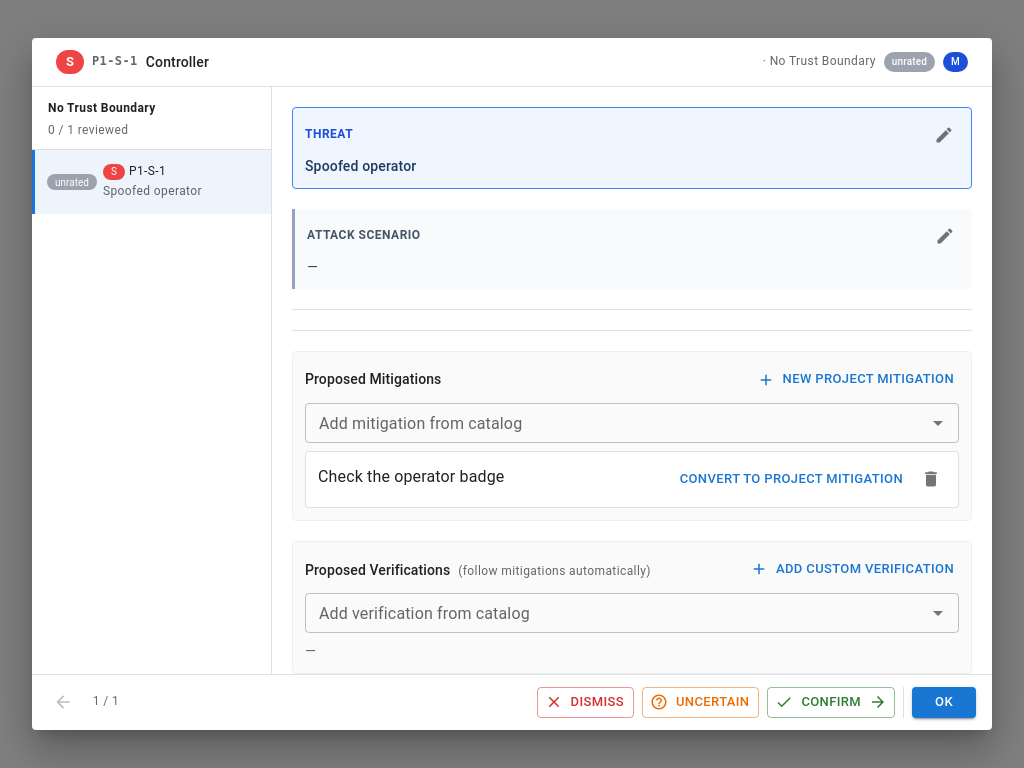
Test case: threat dialog › Convert free text: prefilled, the free-text entry becomes the new id
What coordinates should you click on to do the following:
click the button with test id "convert-mitigation-0"
I would click on:
 (791, 480)
Its box is [675,464,908,495].
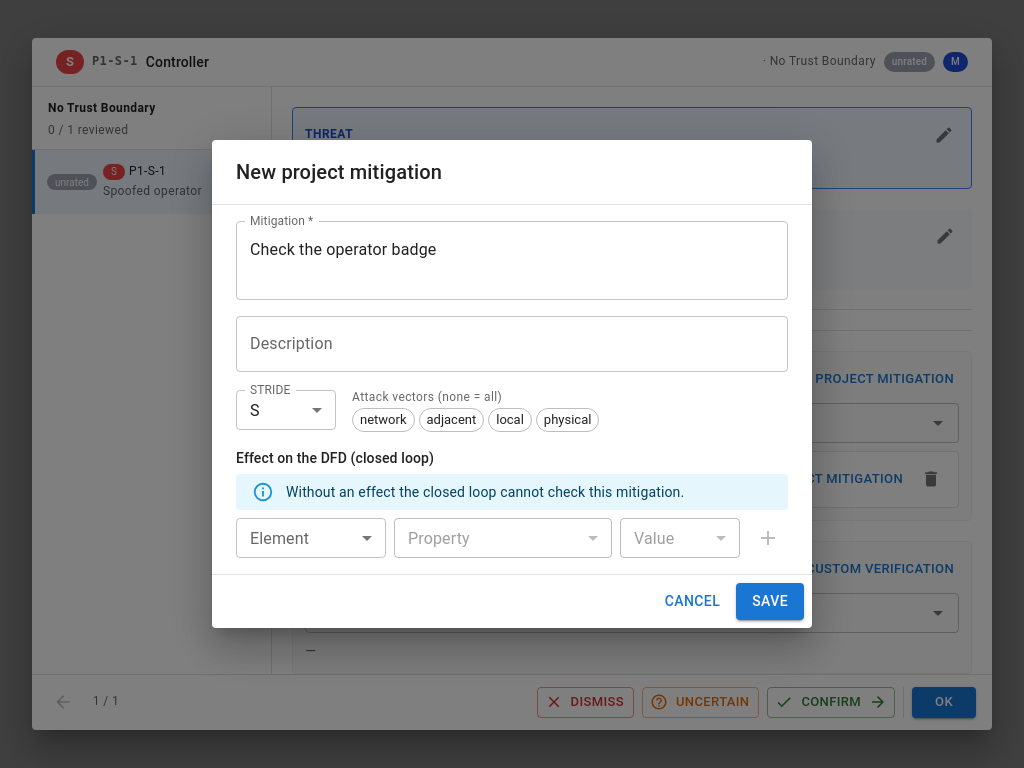
Check: the text box with test id "pm-text" holds "Check the operator badge", box [250,238,774,284]
What coordinates should you click on to do the following:
click the button with test id "pm-save"
I would click on:
 (770, 601)
Its box is [736,583,804,620].
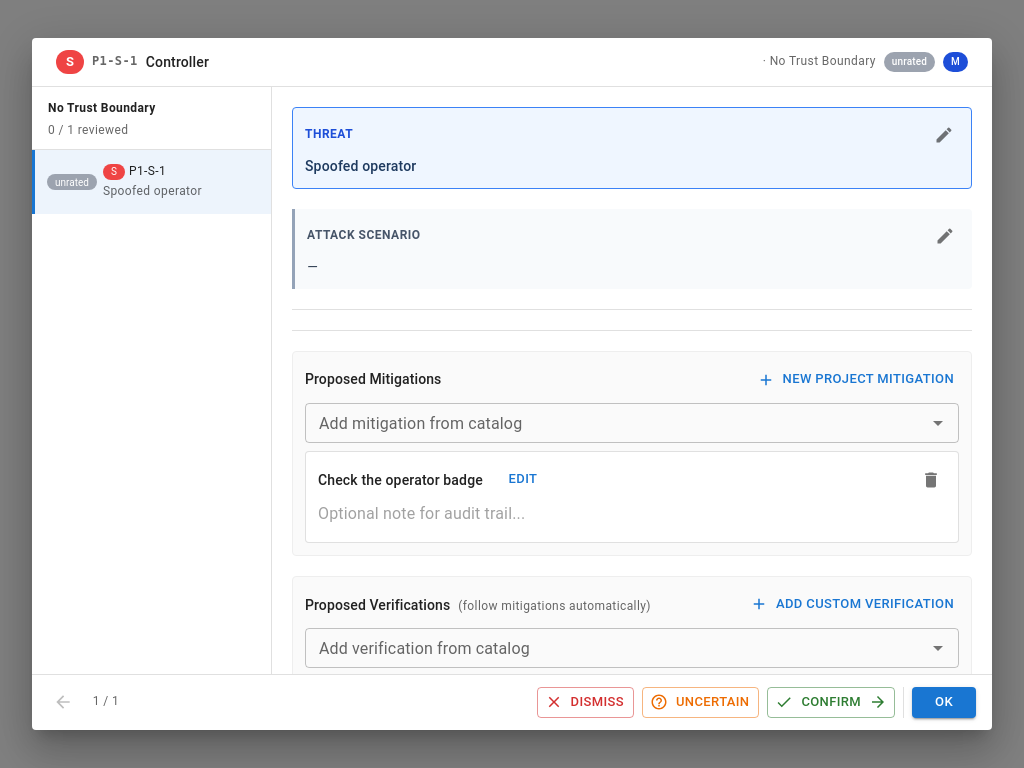
Check: the button with test id "convert-mitigation-0" is gone
Check: the button with test id "remove-catalog-M-C-001" is shown, box [916,465,946,495]
